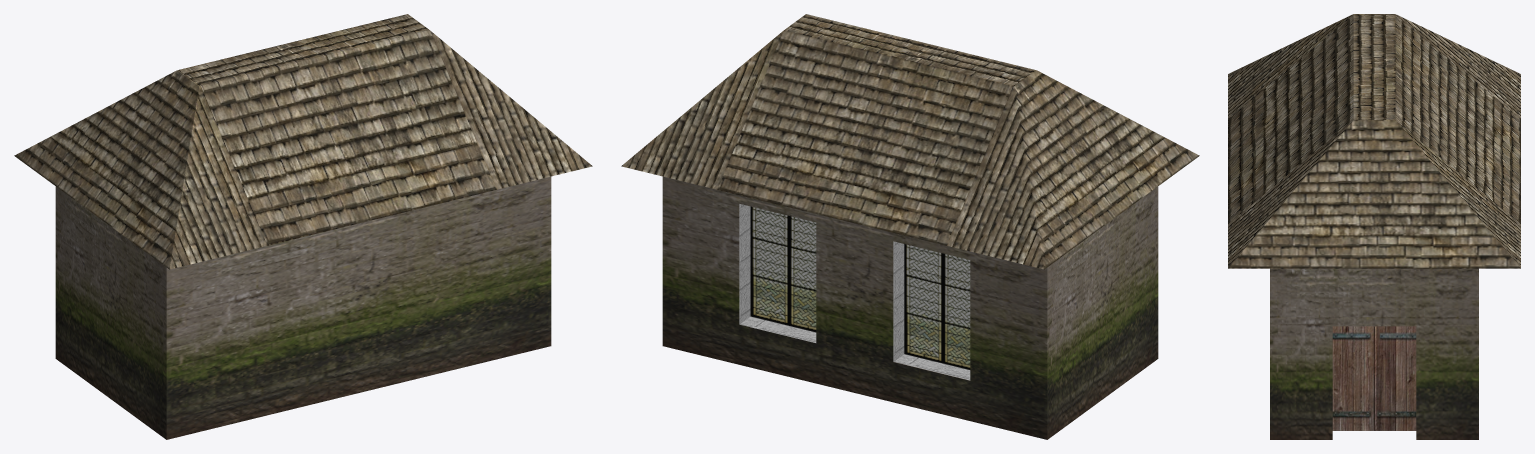
Rendered from casa.fbx.
3 views of the same model, side by side, from view 1: azimuth 30°, elevation 25°; view 2: azimuth 150°, elevation 25°; view 3: azimuth 270°, elevation 25° (orthographic). The views are drawn at different scales.
Parts seen in each view (by area): view 1: House; view 2: House; view 3: House.
Boxes of the visible parts, x1,y1,x2,y2 form: House: [14, 14, 592, 439]; House: [621, 14, 1199, 439]; House: [1228, 14, 1520, 439].
Bounding box in the file's own units: 22 × 15 × 14.
Materials: 1 (1 with a texture image).
